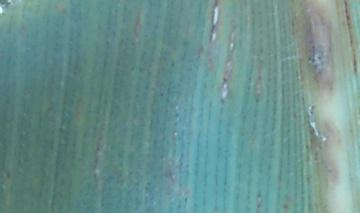tarspot: (157, 91, 165, 98), (221, 75, 228, 83), (169, 60, 175, 69)
